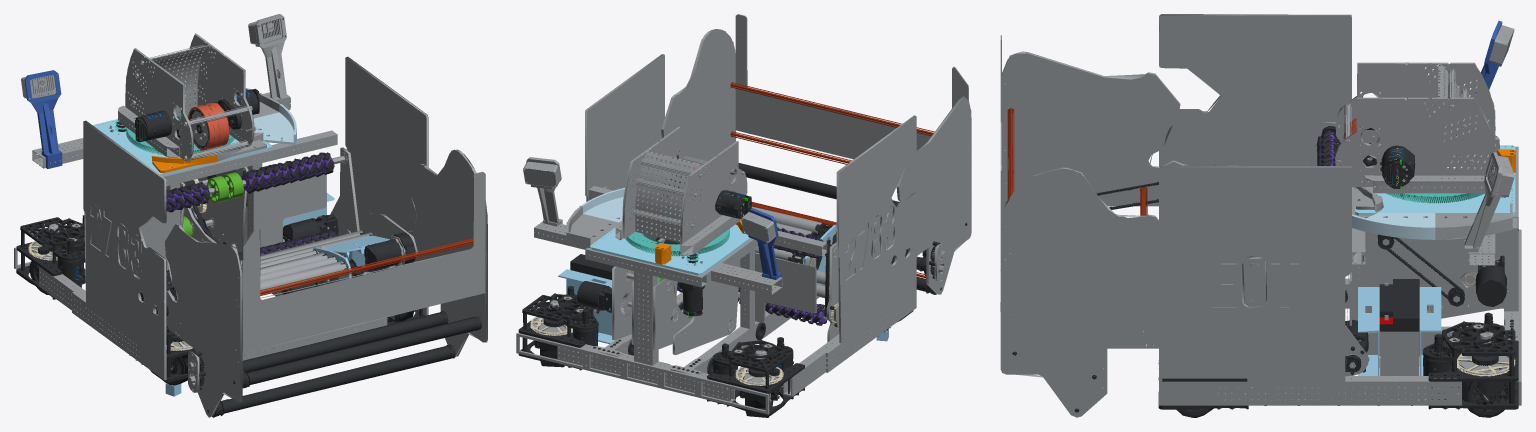
Rendered from robot.glb.
The picture shows the model from 3 angles, left to right: view 1: azimuth 30°, elevation 25°; view 2: azimuth 150°, elevation 25°; view 3: azimuth 270°, elevation 25°; orthographic projection. The views are drawn at different scales.
Parts seen in each view (by area): view 1: 1/2" Hex Bore Bearing (1.125" OD, 0.313" WD, Shielded, Flang, Limelight 4, 1-1/8" OD Aluminum Roller Hub (1/2" Hex Bore) (WCP-1238), Robot Battery, Part 1.001, 2" Vectored Intake Wheel (Left-Hand, 1/2" Hex Bore, Purple), Part 3, am-2569 500 Cross Hex Tube, 2000, turret base plate v1, cable chain tray2, 4" Stealth Wheel (40A, 1/2" Hex Bore), 2.25" Compliant Wheel (35A, 1" Wide, 1/2" Hex Bore) (+2 smaller); view 2: 1/2" Hex Bore Bearing (1.125" OD, 0.313" WD, Shielded, Flang, Limelight 4, Robot Battery, 1-1/8" OD Aluminum Roller Hub (1/2" Hex Bore) (WCP-1238), am-2569 500 Cross Hex Tube, 2000, turret base plate v1, Part 1, cable chain tray2, spur gear 25t v2, Part 1.001, WCP-1728 Simplified Model_Default<As Machined>, WCP Swerve X2 (88t Rotation Gear) (WCP-1712) (+1 smaller); view 3: 1/2" Hex Bore Bearing (1.125" OD, 0.313" WD, Shielded, Flang, Limelight 4, Robot Battery, turret base plate v1, cable chain tray2, 1-1/8" OD Aluminum Roller Hub (1/2" Hex Bore) (WCP-1238), Part 3, Part 1, am-2569 500 Cross Hex Tube, 2000, spur gear 25t v2, Part 1.001.
Boxes of the visible parts, bbox=[...] form: 1/2" Hex Bore Bearing (1.125" OD, 0.313" WD, Shielded, Flang: bbox=[72, 56, 487, 417]; Limelight 4: bbox=[14, 14, 405, 370]; 1-1/8" OD Aluminum Roller Hub (1/2" Hex Bore) (WCP-1238): bbox=[140, 152, 481, 417]; Robot Battery: bbox=[16, 89, 425, 384]; Part 1.001: bbox=[24, 70, 62, 168]; 2" Vectored Intake Wheel (Left-Hand, 1/2" Hex Bore, Purple): bbox=[166, 153, 334, 276]; Part 3: bbox=[283, 193, 389, 280]; am-2569 500 Cross Hex Tube, 2000: bbox=[260, 238, 473, 295]; turret base plate v1: bbox=[92, 119, 272, 175]; cable chain tray2: bbox=[253, 104, 296, 144]; 4" Stealth Wheel (40A, 1/2" Hex Bore): bbox=[188, 102, 229, 150]; 2.25" Compliant Wheel (35A, 1" Wide, 1/2" Hex Bore): bbox=[207, 172, 243, 202]; 1/2" Hex Bore Bearing (1.125" OD, 0.313" WD, Shielded, Flang: bbox=[585, 14, 971, 372]; Limelight 4: bbox=[516, 127, 890, 414]; Robot Battery: bbox=[518, 175, 913, 416]; 1-1/8" OD Aluminum Roller Hub (1/2" Hex Bore) (WCP-1238): bbox=[677, 163, 967, 327]; am-2569 500 Cross Hex Tube, 2000: bbox=[730, 82, 934, 279]; turret base plate v1: bbox=[590, 219, 751, 275]; Part 1: bbox=[558, 269, 888, 343]; cable chain tray2: bbox=[581, 188, 624, 222]; spur gear 25t v2: bbox=[625, 207, 729, 260]; Part 1.001: bbox=[748, 208, 781, 282]; WCP-1728 Simplified Model_Default<As Machined>: bbox=[540, 329, 887, 417]; WCP Swerve X2 (88t Rotation Gear) (WCP-1712): bbox=[530, 315, 783, 385]; 1/2" Hex Bore Bearing (1.125" OD, 0.313" WD, Shielded, Flang: bbox=[1000, 14, 1369, 417]; Limelight 4: bbox=[1158, 25, 1521, 405]; Robot Battery: bbox=[1158, 128, 1518, 416]; turret base plate v1: bbox=[1355, 145, 1515, 215]; cable chain tray2: bbox=[1352, 213, 1435, 239]; 1-1/8" OD Aluminum Roller Hub (1/2" Hex Bore) (WCP-1238): bbox=[1012, 126, 1366, 412]; Part 3: bbox=[1358, 287, 1379, 375]; Part 1: bbox=[1419, 287, 1441, 375]; am-2569 500 Cross Hex Tube, 2000: bbox=[1007, 108, 1147, 387]; spur gear 25t v2: bbox=[1386, 154, 1488, 203]; Part 1.001: bbox=[1475, 21, 1505, 93].
Size of the model in its own units: 0.6959 by 0.5951 by 0.9934.
